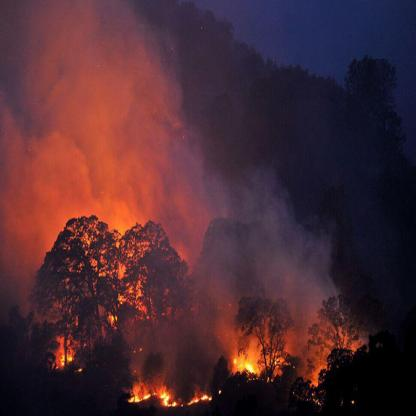fire: (125, 362, 212, 409), (231, 332, 282, 382), (56, 330, 80, 370)
